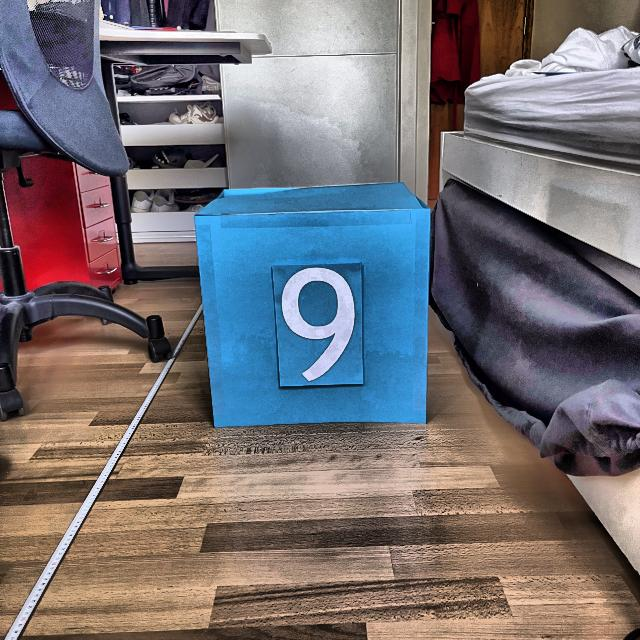blue box: (191, 176, 438, 429)
nine: (280, 263, 360, 387)
